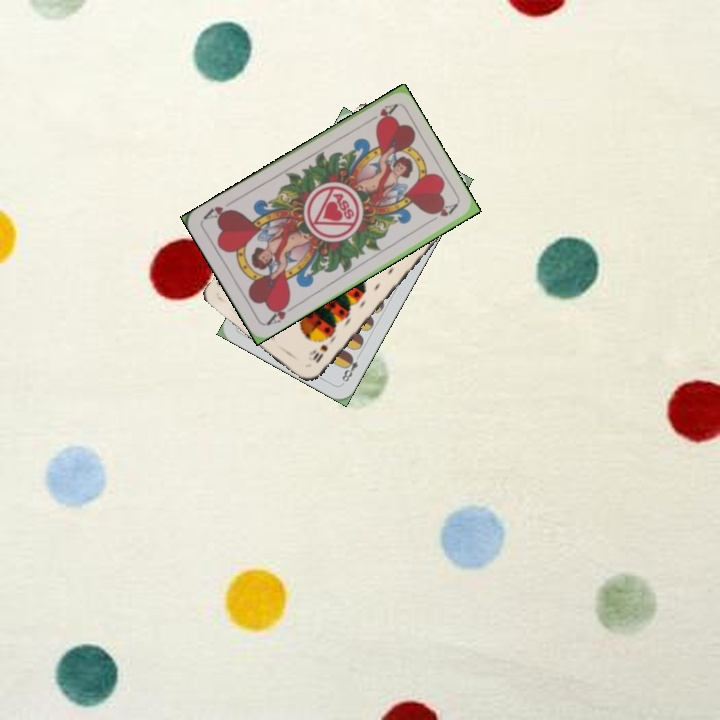E8: (338, 350, 364, 386)
HA: (361, 100, 399, 127), (262, 298, 292, 328)
S10: (308, 340, 331, 365)
